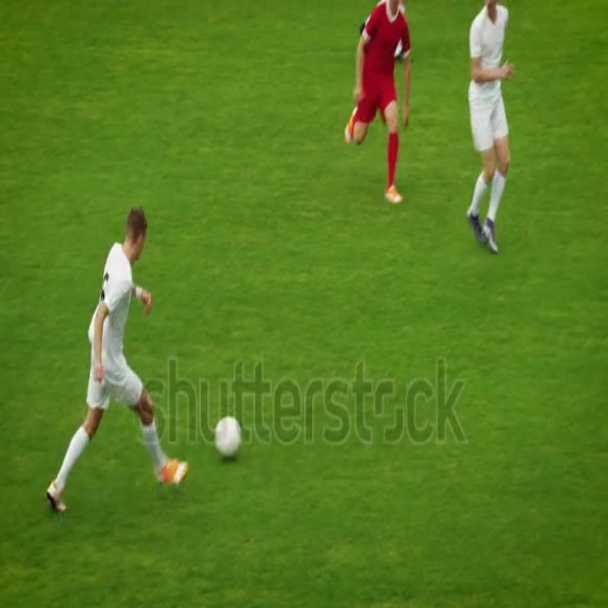ball: (212, 413, 244, 462)
